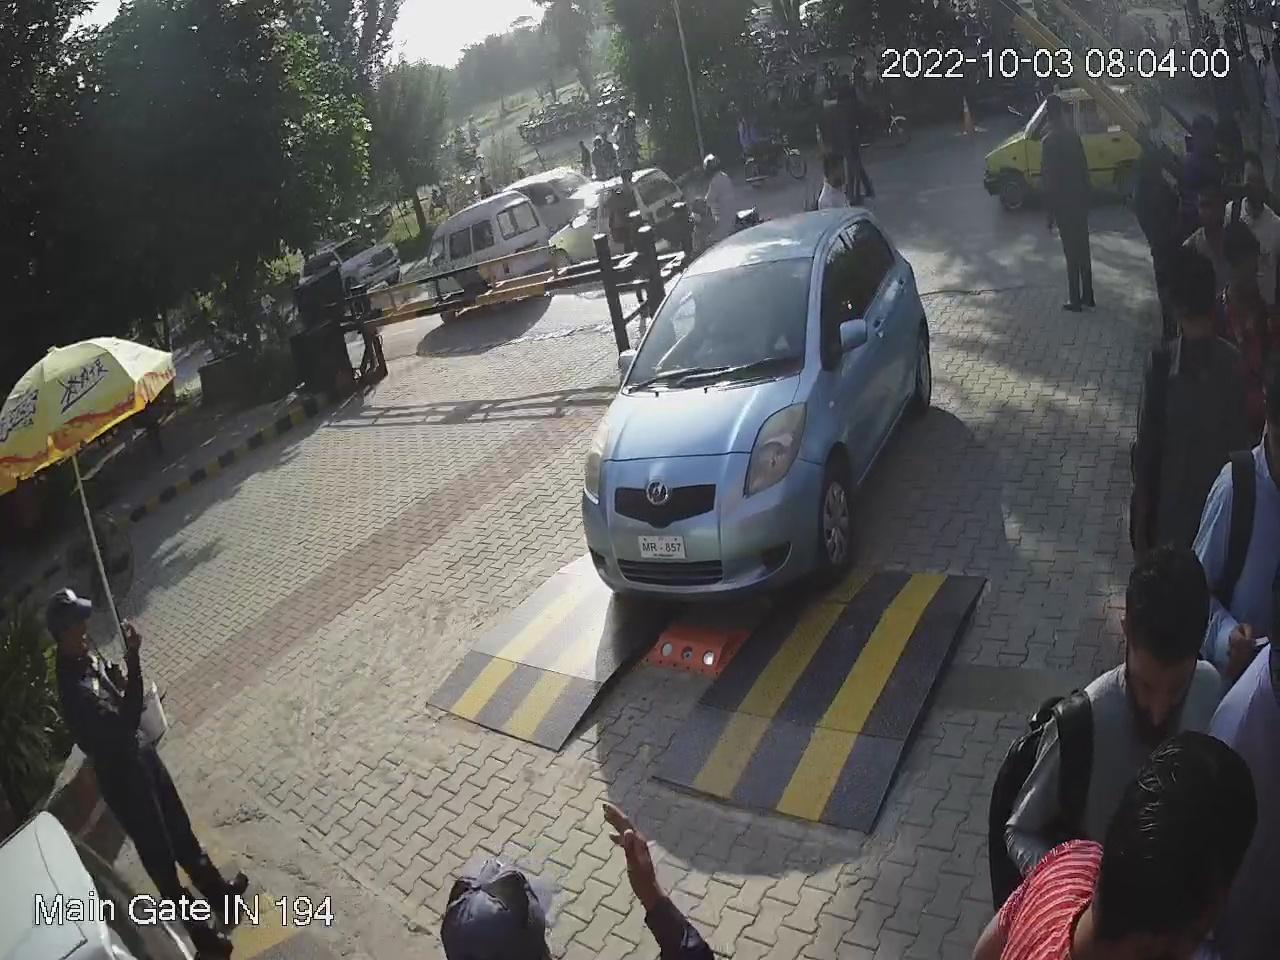windshield: (618, 240, 817, 390)
